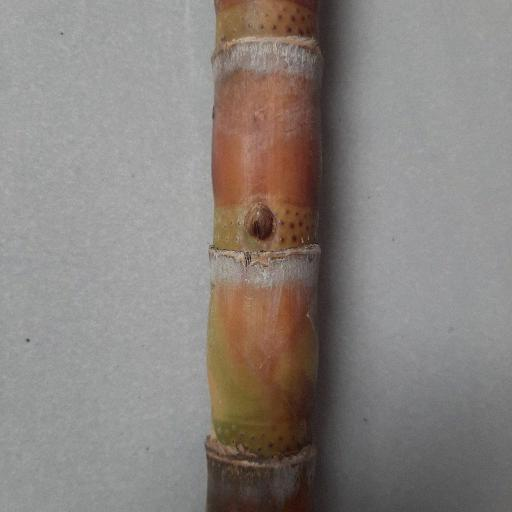Bud: (243, 202, 275, 241)
